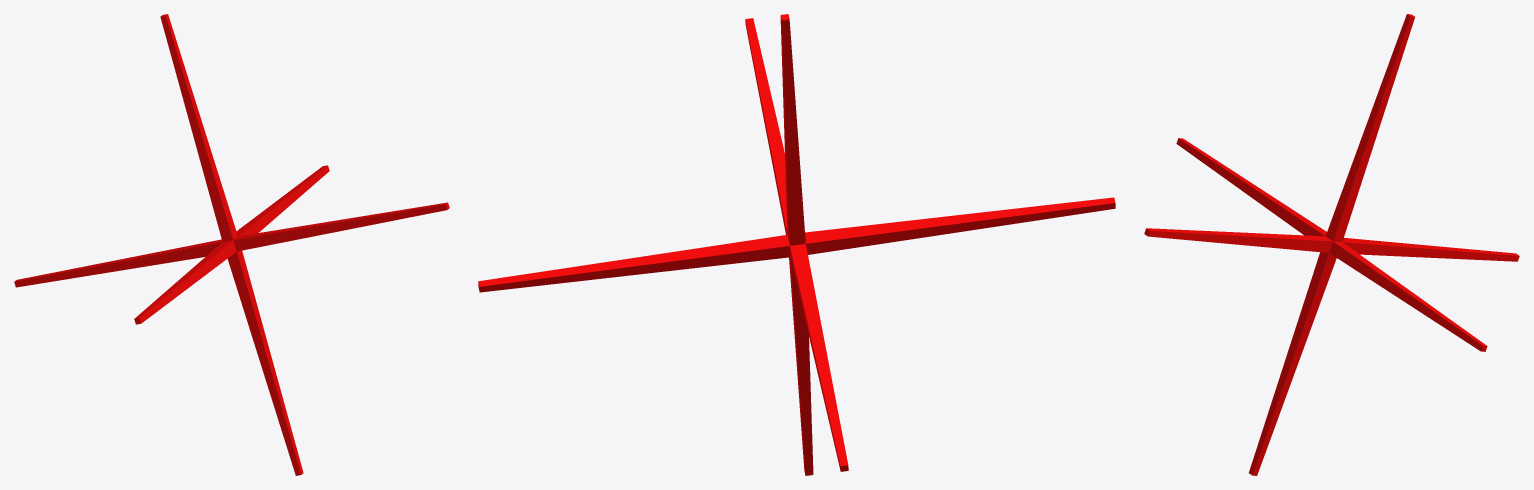
File: aggregate.glb
3 views of the same model, side by side, from view 1: azimuth 30°, elevation 25°; view 2: azimuth 150°, elevation 25°; view 3: azimuth 270°, elevation 25° (orthographic). The views are drawn at different scales.
Parts seen in each view (by area): view 1: aggregate; view 2: aggregate; view 3: aggregate.
Part boxes in pixels (x1,y1,x2,y2): aggregate: [14, 14, 449, 475]; aggregate: [478, 14, 1115, 475]; aggregate: [1144, 14, 1519, 475].
Size of the model in its own units: 115 by 135 by 106.
